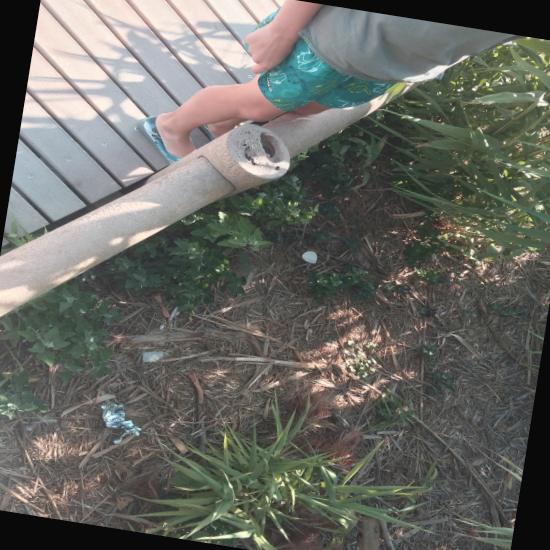Other plastic: (100, 401, 141, 443)
Plastic film: (143, 351, 163, 362)
Unlabeled litter: (301, 250, 317, 263)
